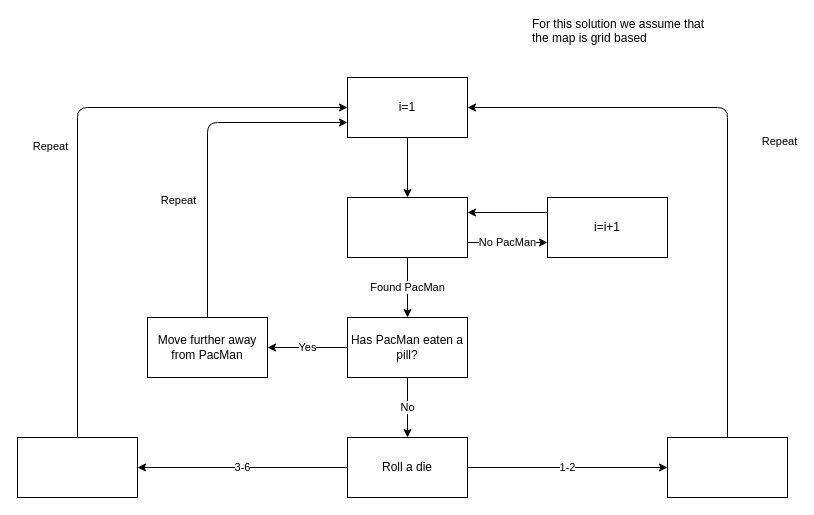
This 814x515 diagram has some shape labels left out. Here are the shapes that lost their labels. From the top down, the centre of each, then its label:
(x=407, y=227): Check i grids surrounding the ghost
(x=77, y=467): Go to where Pacman is, until you hit the next junction
(x=727, y=467): Go in a random direction until you hit the next junction
